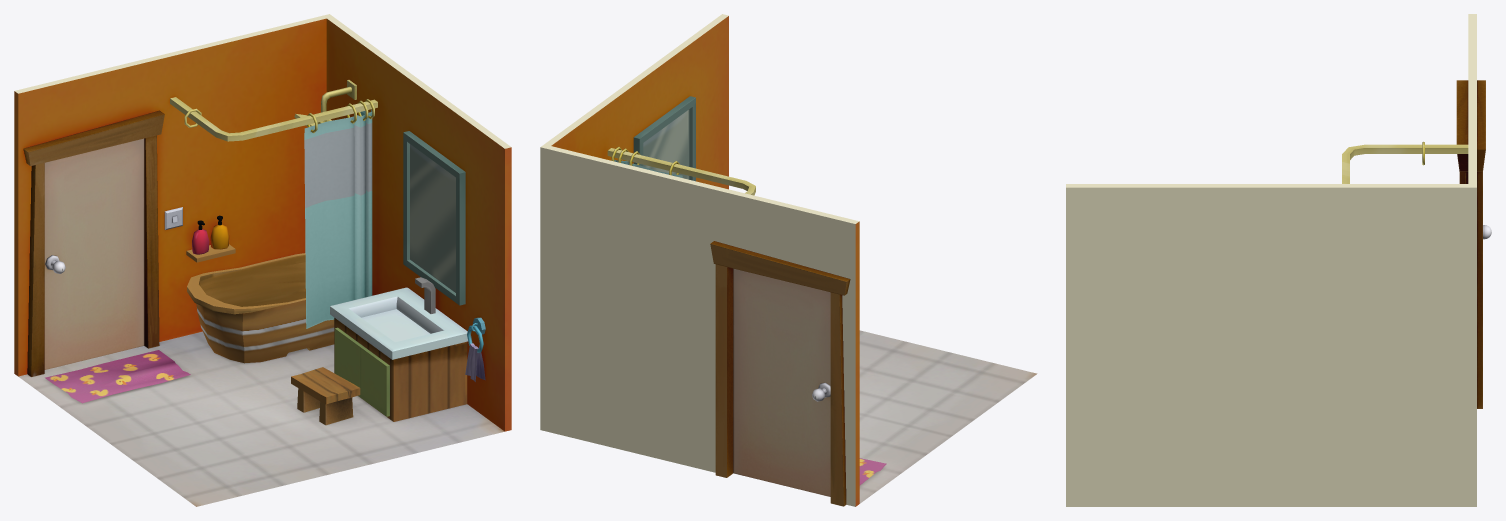
File: bathroom 1.fbx
3 renders of one model, left to right at view 1: azimuth 30°, elevation 25°; view 2: azimuth 150°, elevation 25°; view 3: azimuth 270°, elevation 25°, orthographic. The views are drawn at different scales.
Visible parts, largest first — view 1: room, door, shower_curtain, pasted__sink, bathtub, doorframe, mirror, mat, stool1, bar, pasted__door_right, pasted__door_left; view 2: room, door, doorframe, mirror, bar; view 3: room, doorframe, bar.
Part boxes in pixels (x1=…): room: x1=14, y1=14, x2=511, y2=506; door: x1=44, y1=138, x2=144, y2=369; shower_curtain: x1=304, y1=109, x2=372, y2=328; pasted__sink: x1=330, y1=287, x2=467, y2=421; bathtub: x1=187, y1=253, x2=334, y2=363; doorframe: x1=23, y1=110, x2=164, y2=376; mirror: x1=403, y1=131, x2=465, y2=305; mat: x1=45, y1=350, x2=190, y2=403; stool1: x1=291, y1=367, x2=360, y2=425; bar: x1=170, y1=97, x2=377, y2=141; pasted__door_right: x1=360, y1=346, x2=389, y2=416; pasted__door_left: x1=334, y1=327, x2=363, y2=397; room: x1=540, y1=14, x2=1037, y2=506; door: x1=733, y1=268, x2=830, y2=496; doorframe: x1=710, y1=241, x2=850, y2=506; mirror: x1=633, y1=96, x2=695, y2=181; bar: x1=607, y1=148, x2=755, y2=195; room: x1=1066, y1=14, x2=1476, y2=506; doorframe: x1=1456, y1=80, x2=1485, y2=408; bar: x1=1342, y1=144, x2=1468, y2=183.
Bounding box in the file's own units: 140 × 120 × 145.
